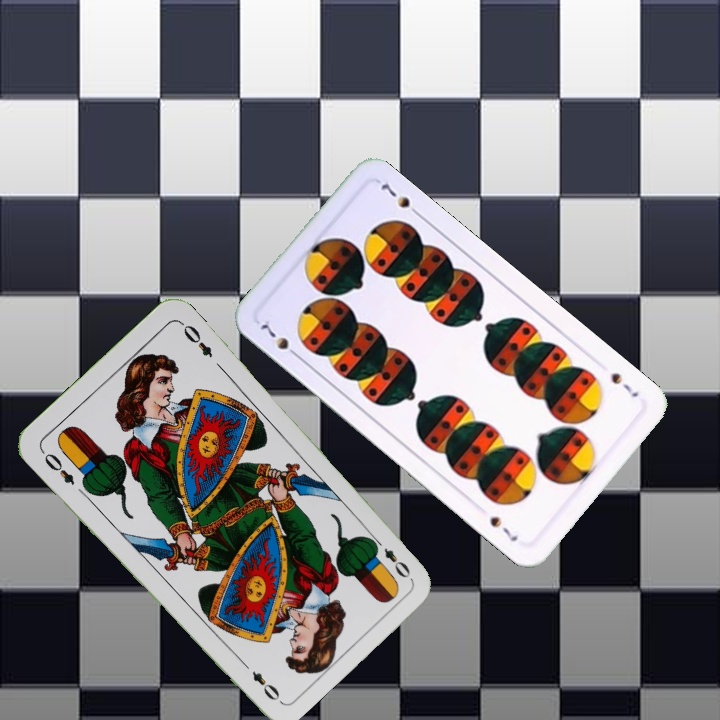EO: (368, 533, 413, 581), (37, 446, 78, 488)
S7: (257, 316, 303, 361), (607, 368, 641, 400)
